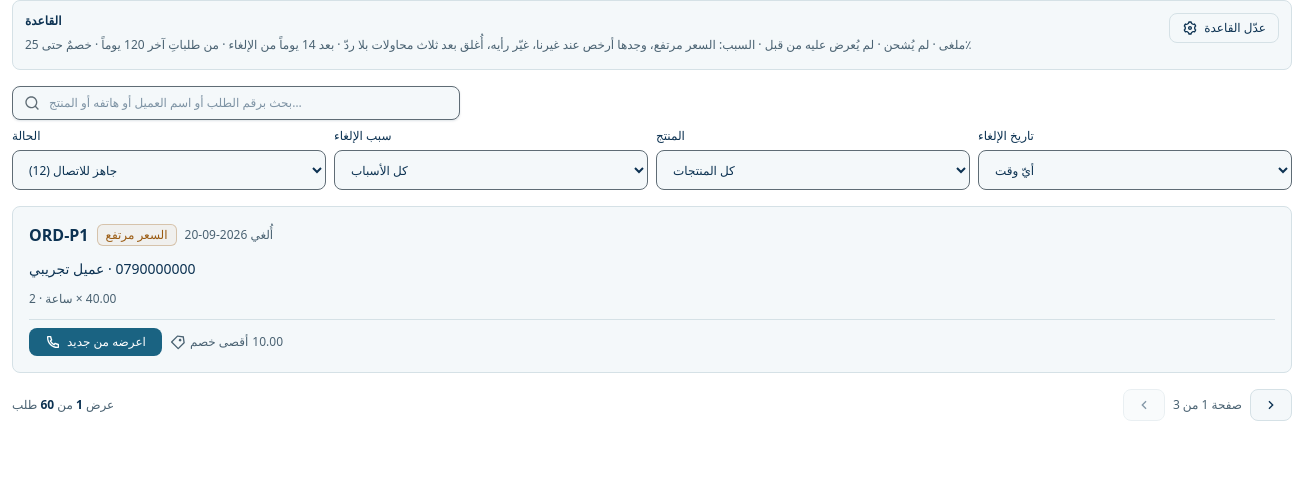
Scenario: choosing › and the pages turn the SAME list: «التالي» keeps the view and the filters
This screenshot has width=1304, height=486.
Select "ما زال في المهلة (5)" in the dropdown labelled "الحالة" at [169, 170], box [12,150,326,190]
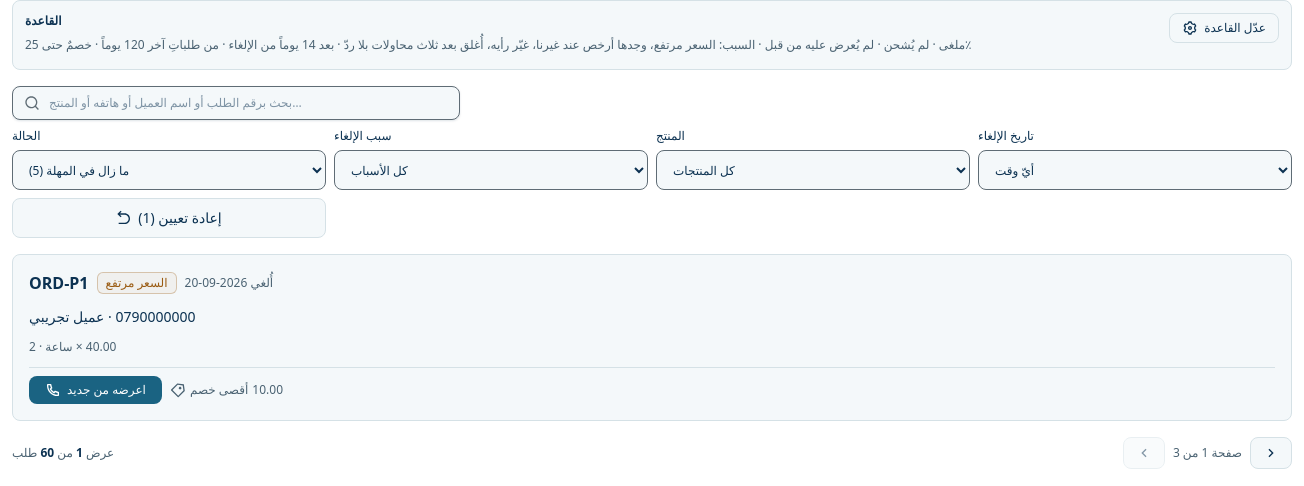
Select "آخر 7 أيام (2)" in the dropdown labelled "تاريخ الإلغاء" at [1135, 170], box [978,150,1292,190]
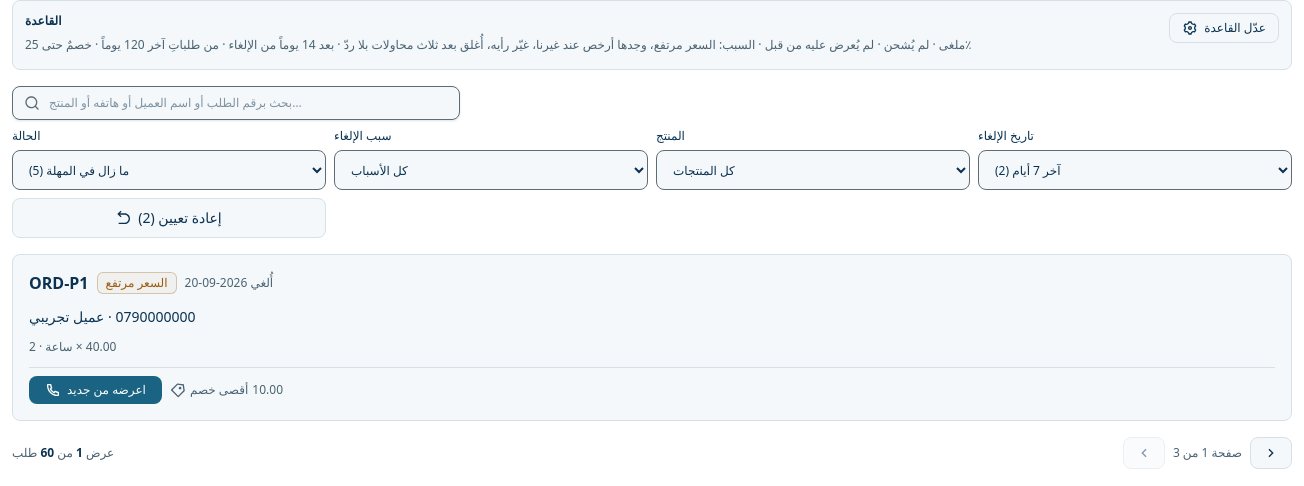
Click the button named "الصفحة التالية".
click(1271, 453)  # box [1250,437,1292,469]
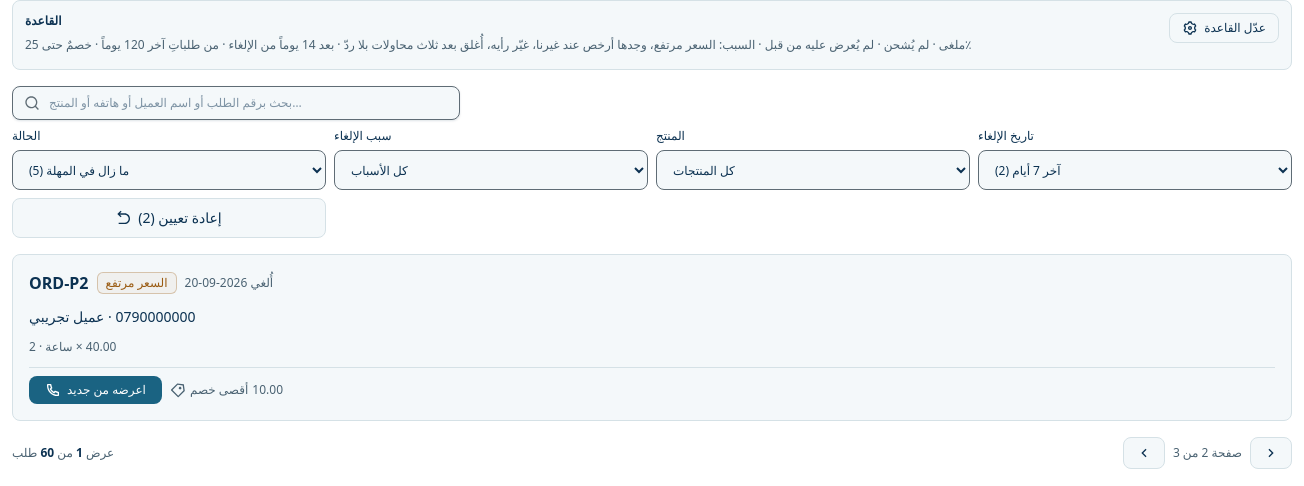
Check: the link "ORD-P2" is shown, box [29,271,88,295]
Check: the text "صفحة 2 من 3" is shown, box [1173,445,1242,461]
